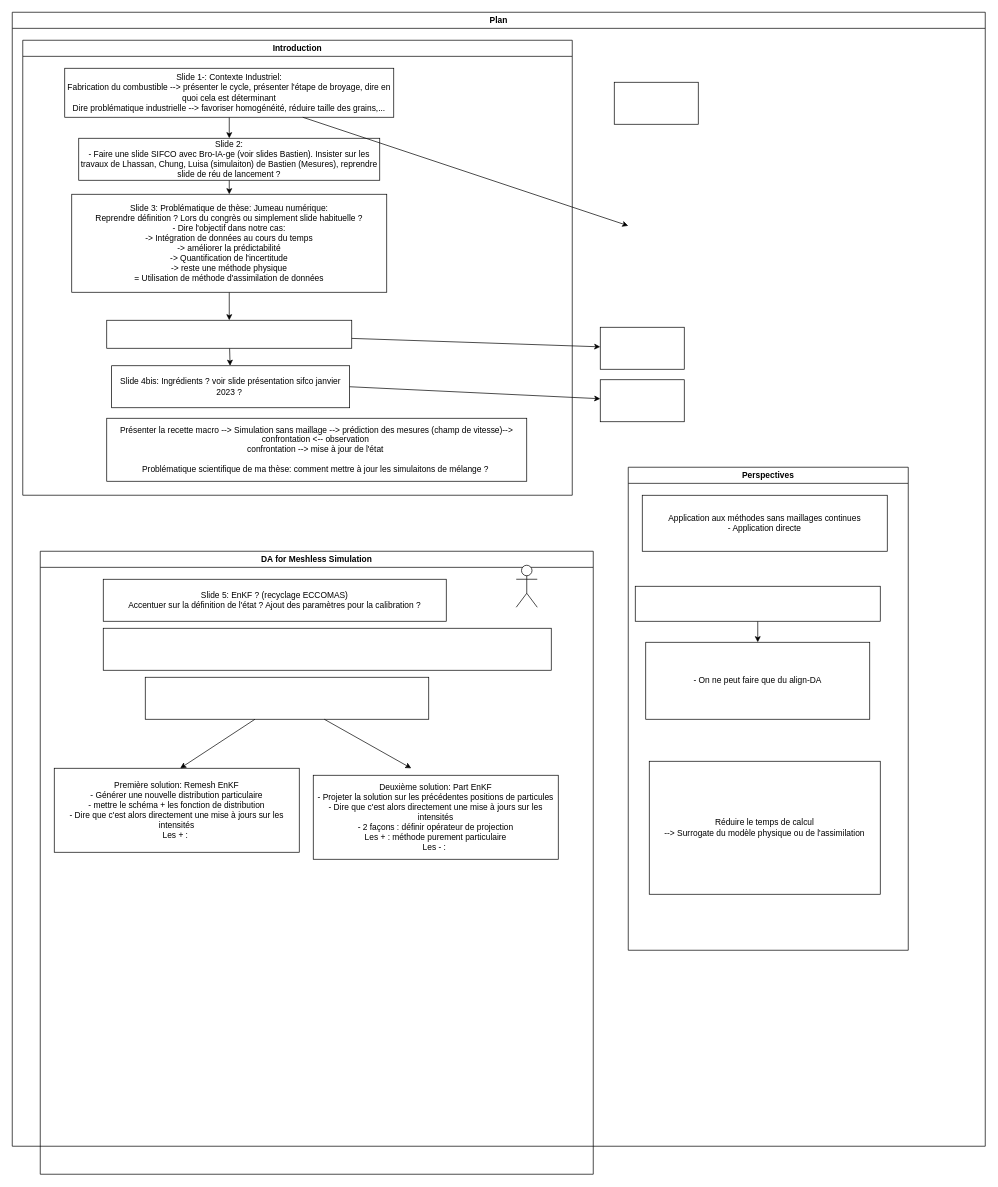
Image size: 998x1187. Some labels were removed from this diagram. Each missing label, with the centre of its shape:
"Actor" belongs at (526,586).
"Application aux méthodes DEM ?" belongs at (757,603).
"EnKF et méthode sans maillage --> recyclage ECCOMAS" belongs at (287,698).
"Méthodes sans maillages --> recyclage ECCOMAS" belongs at (327,649).
"Slide 4: Assimilation de données (recyclage de slide...)" belongs at (229,334).
"voir enclenchement/ slide Bastien" belongs at (656,103).
"voir présentation 230123" belongs at (642,400).
"voir présentation ECCOMAS" belongs at (642,348).
